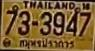3: (40, 11, 51, 35), (18, 10, 29, 34)
4: (66, 11, 78, 36)
7: (5, 9, 18, 35), (78, 12, 90, 36)
9: (53, 11, 64, 35)
SPK: (18, 37, 75, 49)
